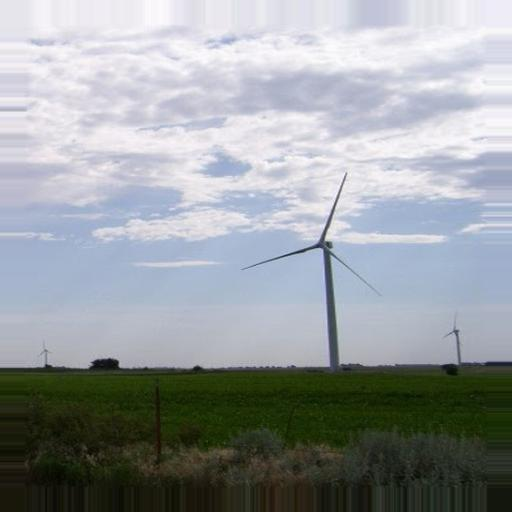wind turbine: (239, 169, 384, 362), (440, 311, 470, 364)
